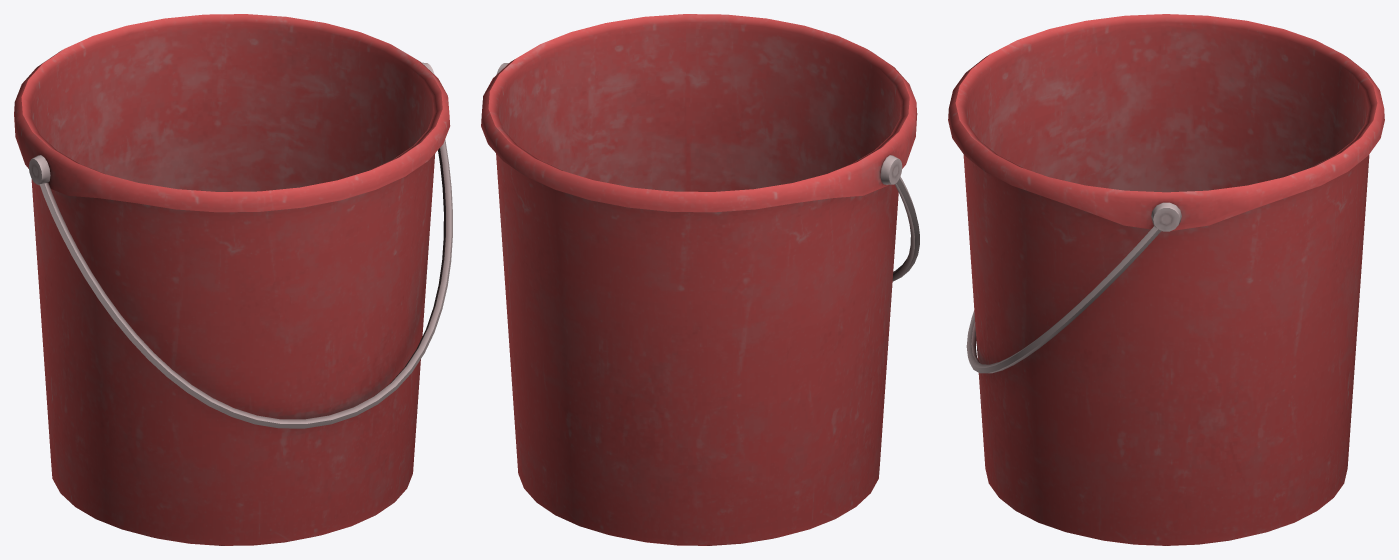
File: Plastic_Bucket.fbx
The picture shows the model from 3 angles, left to right: view 1: azimuth 30°, elevation 25°; view 2: azimuth 150°, elevation 25°; view 3: azimuth 270°, elevation 25°; orthographic projection.
Parts seen in each view (by area): view 1: Plastic_Bucket; view 2: Plastic_Bucket; view 3: Plastic_Bucket.
Boxes of the visible parts, bbox=[...] form: Plastic_Bucket: bbox=[14, 14, 452, 545]; Plastic_Bucket: bbox=[481, 14, 919, 545]; Plastic_Bucket: bbox=[948, 14, 1384, 545].
Bounding box in the file's own units: 47.19 × 42.83 × 45.43.
